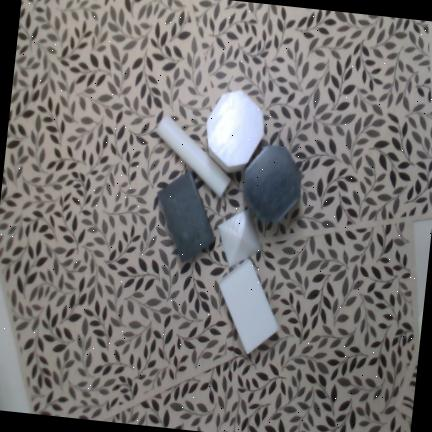Cilindro: (155, 114, 232, 200)
Paralelepipedo: (218, 258, 280, 355), (157, 170, 216, 263)
Piramide: (217, 210, 261, 267)
Prisma_hexagonal: (207, 90, 264, 174), (243, 144, 301, 222)
